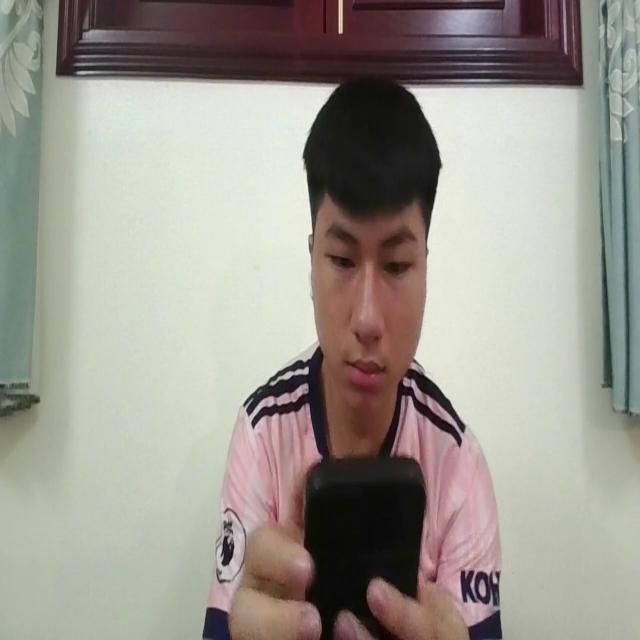phone: (303, 444, 427, 640)
student: (196, 68, 506, 640)
